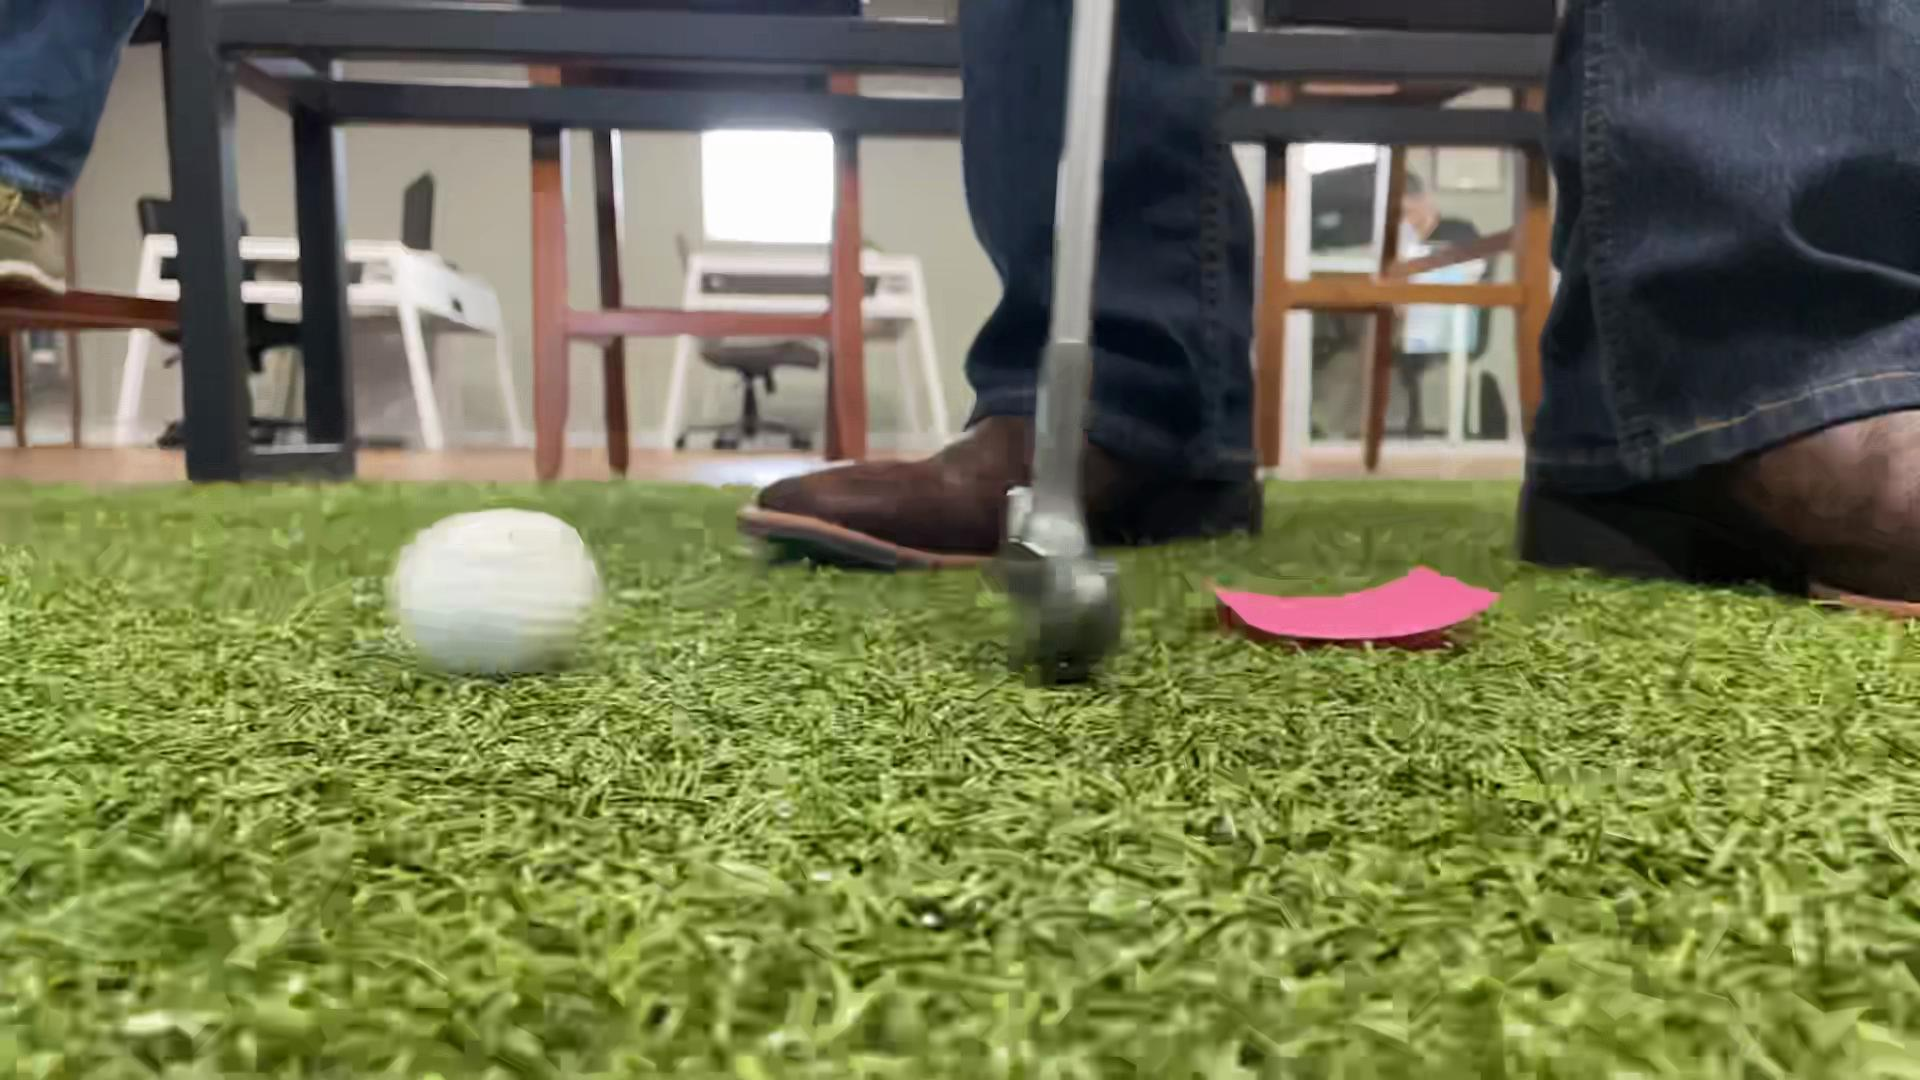golfball: (389, 510, 601, 678)
